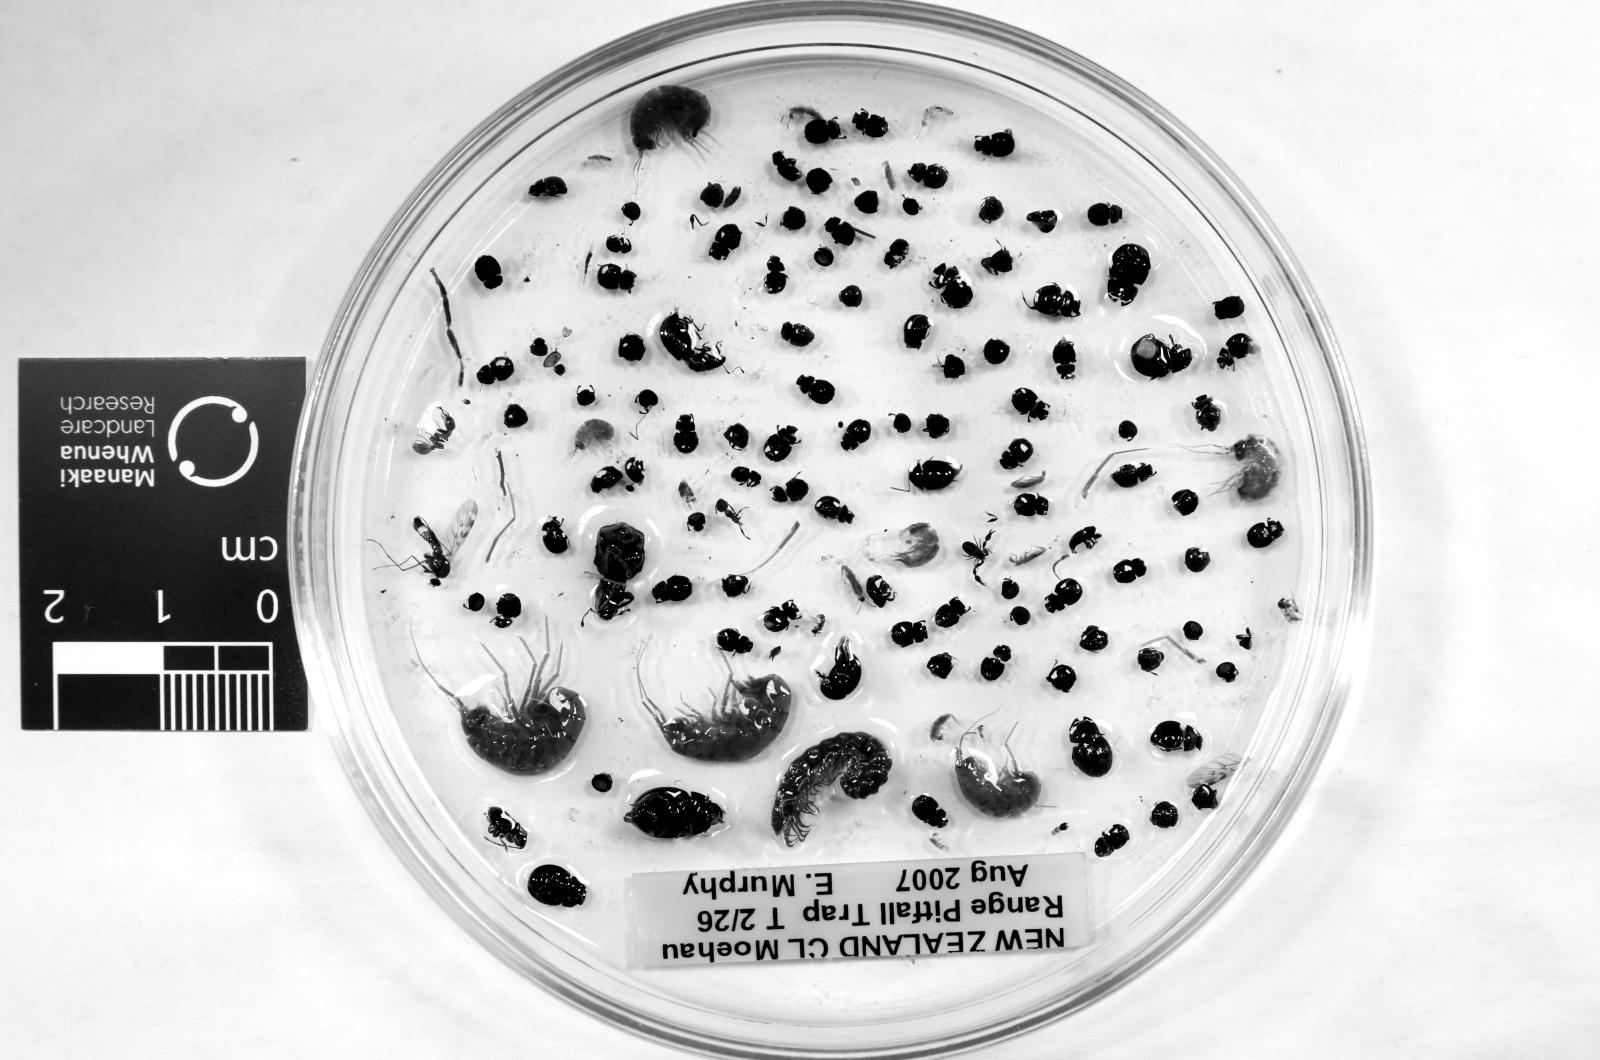amphipoda: (443, 631, 584, 776), (634, 642, 791, 761), (630, 85, 711, 159), (957, 751, 1041, 816), (1222, 435, 1281, 503), (894, 522, 940, 568), (575, 419, 616, 451)
coleoptera: (590, 522, 643, 621), (626, 789, 725, 839), (660, 314, 725, 373), (818, 636, 862, 699), (1132, 336, 1193, 379), (1106, 245, 1149, 304), (1069, 717, 1113, 776), (529, 864, 588, 906), (1028, 283, 1081, 317), (931, 264, 972, 308), (1149, 720, 1203, 751), (909, 459, 957, 491), (1219, 332, 1259, 369), (1044, 577, 1084, 612), (763, 426, 797, 463), (763, 600, 799, 634), (972, 130, 1016, 159), (913, 795, 947, 829), (475, 357, 516, 386), (540, 516, 569, 556), (710, 224, 740, 260), (653, 575, 694, 602), (1193, 394, 1222, 432), (1246, 518, 1284, 547), (715, 627, 753, 655), (1012, 388, 1047, 419), (1000, 438, 1035, 468), (982, 646, 1012, 680), (597, 264, 634, 292), (797, 376, 835, 403), (866, 575, 896, 608), (1054, 338, 1078, 379), (672, 413, 697, 453), (1113, 463, 1153, 487), (841, 419, 872, 451), (853, 109, 887, 137), (890, 621, 928, 646), (803, 118, 841, 143), (909, 164, 947, 189), (1012, 491, 1050, 516), (475, 254, 503, 289), (903, 314, 931, 348), (494, 593, 522, 627), (934, 600, 969, 627), (772, 478, 809, 503), (816, 497, 853, 522), (765, 254, 788, 295), (1113, 558, 1147, 584), (529, 177, 569, 199), (1088, 202, 1122, 227), (782, 323, 816, 348), (1069, 525, 1100, 552), (825, 218, 856, 245), (772, 153, 799, 180), (885, 239, 909, 267), (731, 466, 763, 487), (607, 237, 631, 254)
collembola: (841, 565, 866, 602), (1010, 547, 1047, 565), (922, 105, 953, 128), (1012, 472, 1047, 491), (931, 715, 953, 742), (788, 105, 822, 121)
diplopoda: (772, 733, 890, 845)
diptera: (397, 500, 478, 587), (1278, 600, 1300, 621)
formicidae: (413, 403, 456, 453), (487, 807, 529, 848)
pseudoscorpiones: (963, 531, 993, 584)
